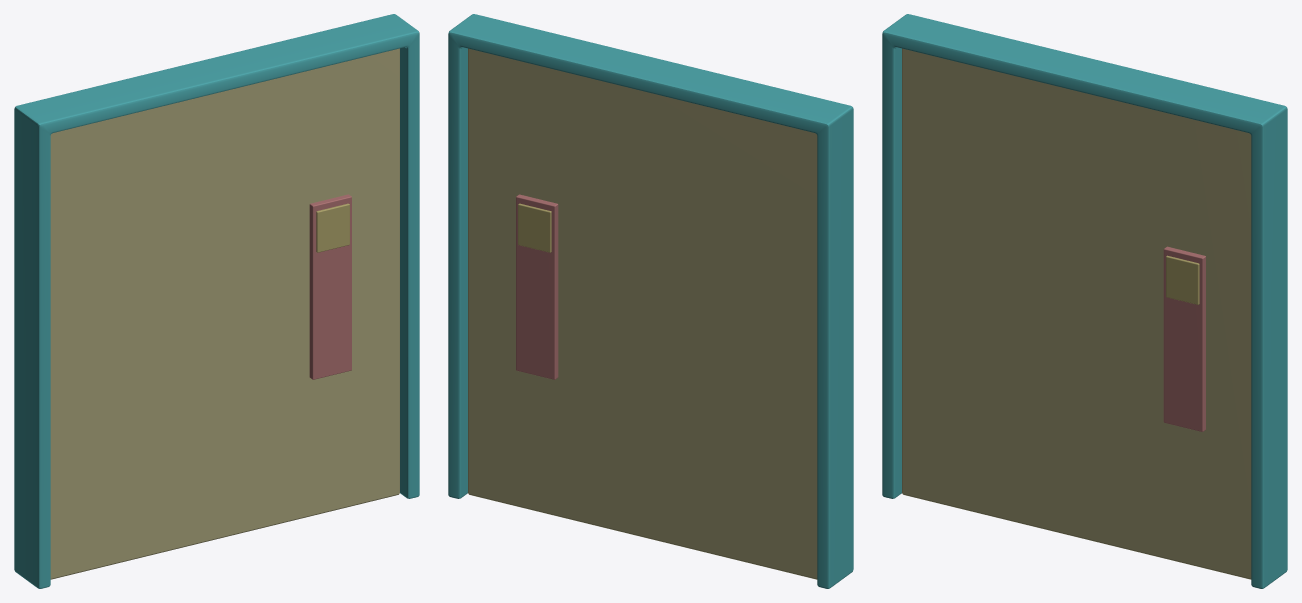
The model's file is Door_Wide_Locked.fbx.
The picture shows the model from 3 angles, left to right: view 1: azimuth 30°, elevation 25°; view 2: azimuth 150°, elevation 25°; view 3: azimuth 330°, elevation 25°; orthographic projection.
Parts seen in each view (by area): view 1: Door_Wide_Locked; view 2: Door_Wide_Locked; view 3: Door_Wide_Locked.
Boxes of the visible parts, <box> form: Door_Wide_Locked: <box>14,14,419,588</box>; Door_Wide_Locked: <box>448,14,853,588</box>; Door_Wide_Locked: <box>882,14,1287,588</box>.
Size of the model in its own units: 6 by 7 by 0.7.
